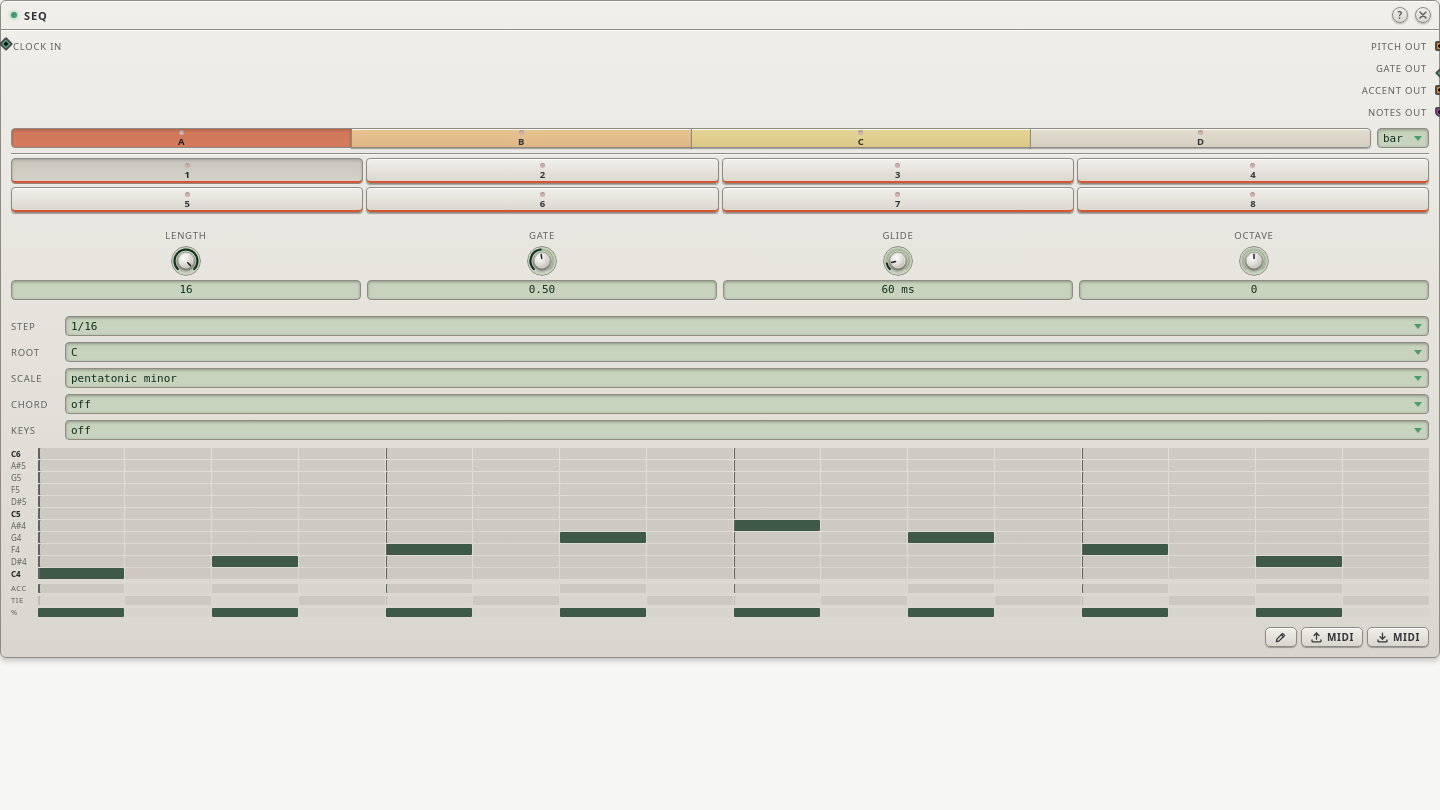
it: ModuleNode › steps as text › opens the steps of a Seq as text, and applies them as one undo step
This screenshot has width=1440, height=810.
Click the button named "Edit as text": (1281, 637) x1=1265 y1=627 x2=1297 y2=647
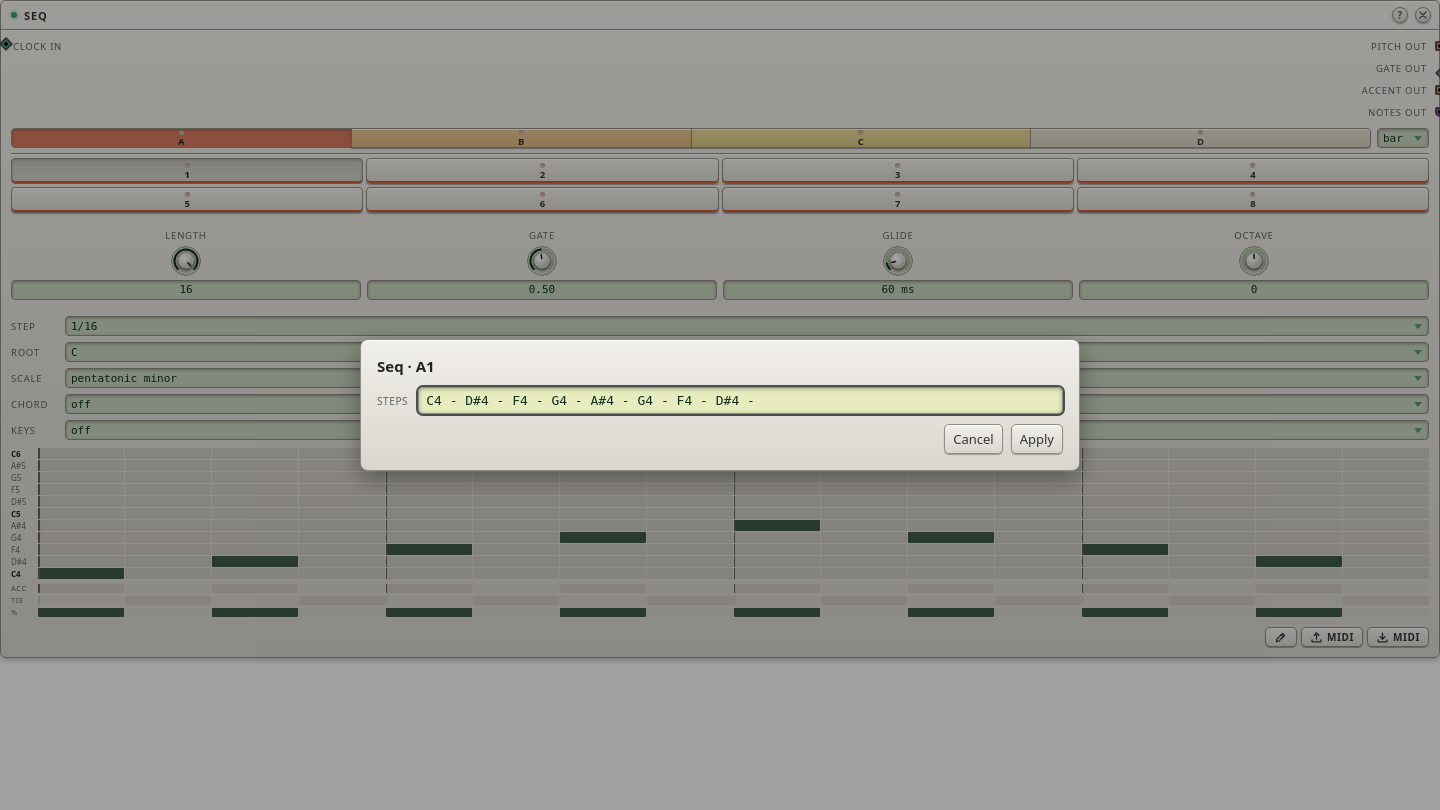
Expected: the field labelled "Steps" holds "C4 - D#4 - F4 - G4 - A#4 - G4 - F4 - D#4 -"
Replace the text in the field labelled "Steps" with "c4 - eb4": (741, 400) x1=418 y1=387 x2=1063 y2=414
Then press Enter
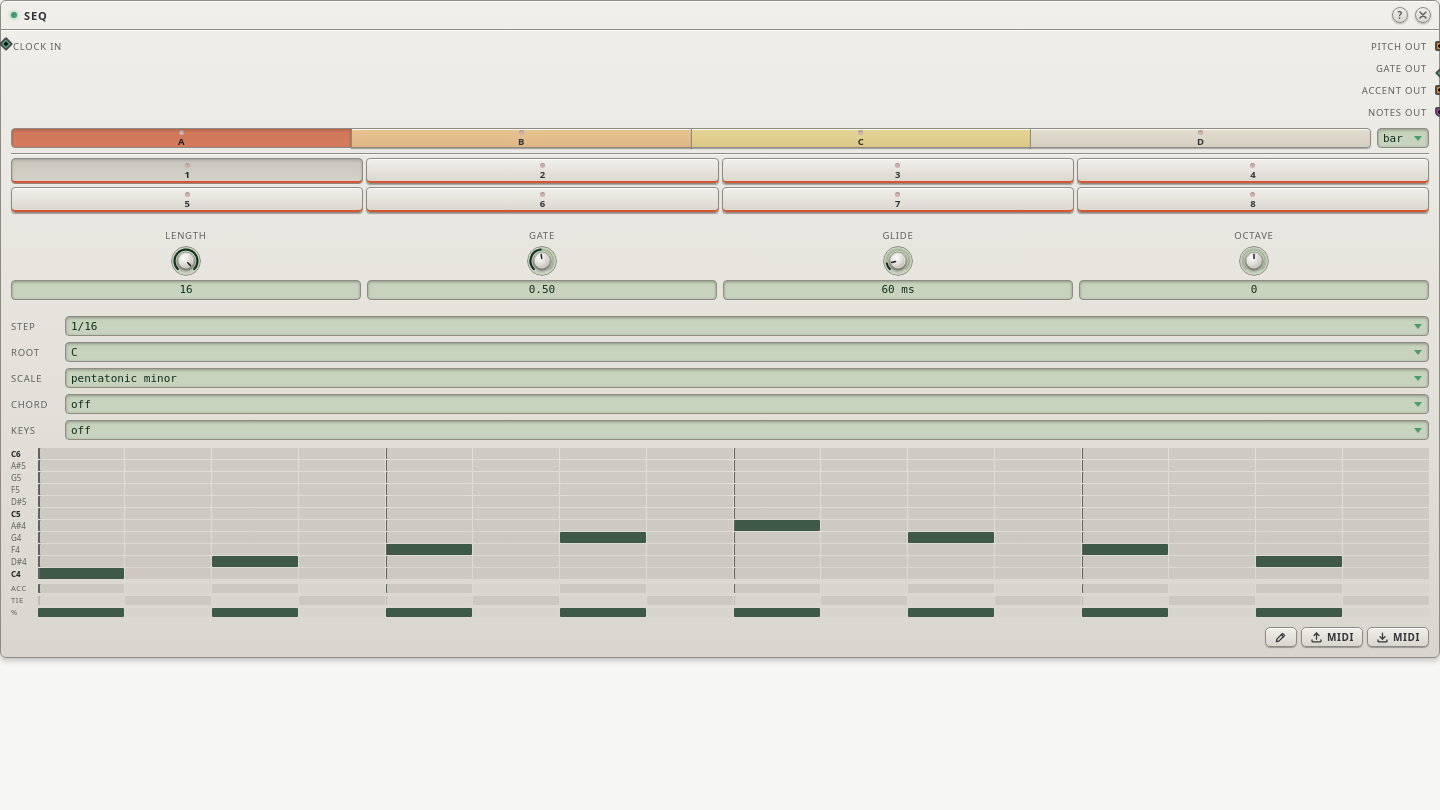
Expected: the dialog is gone
